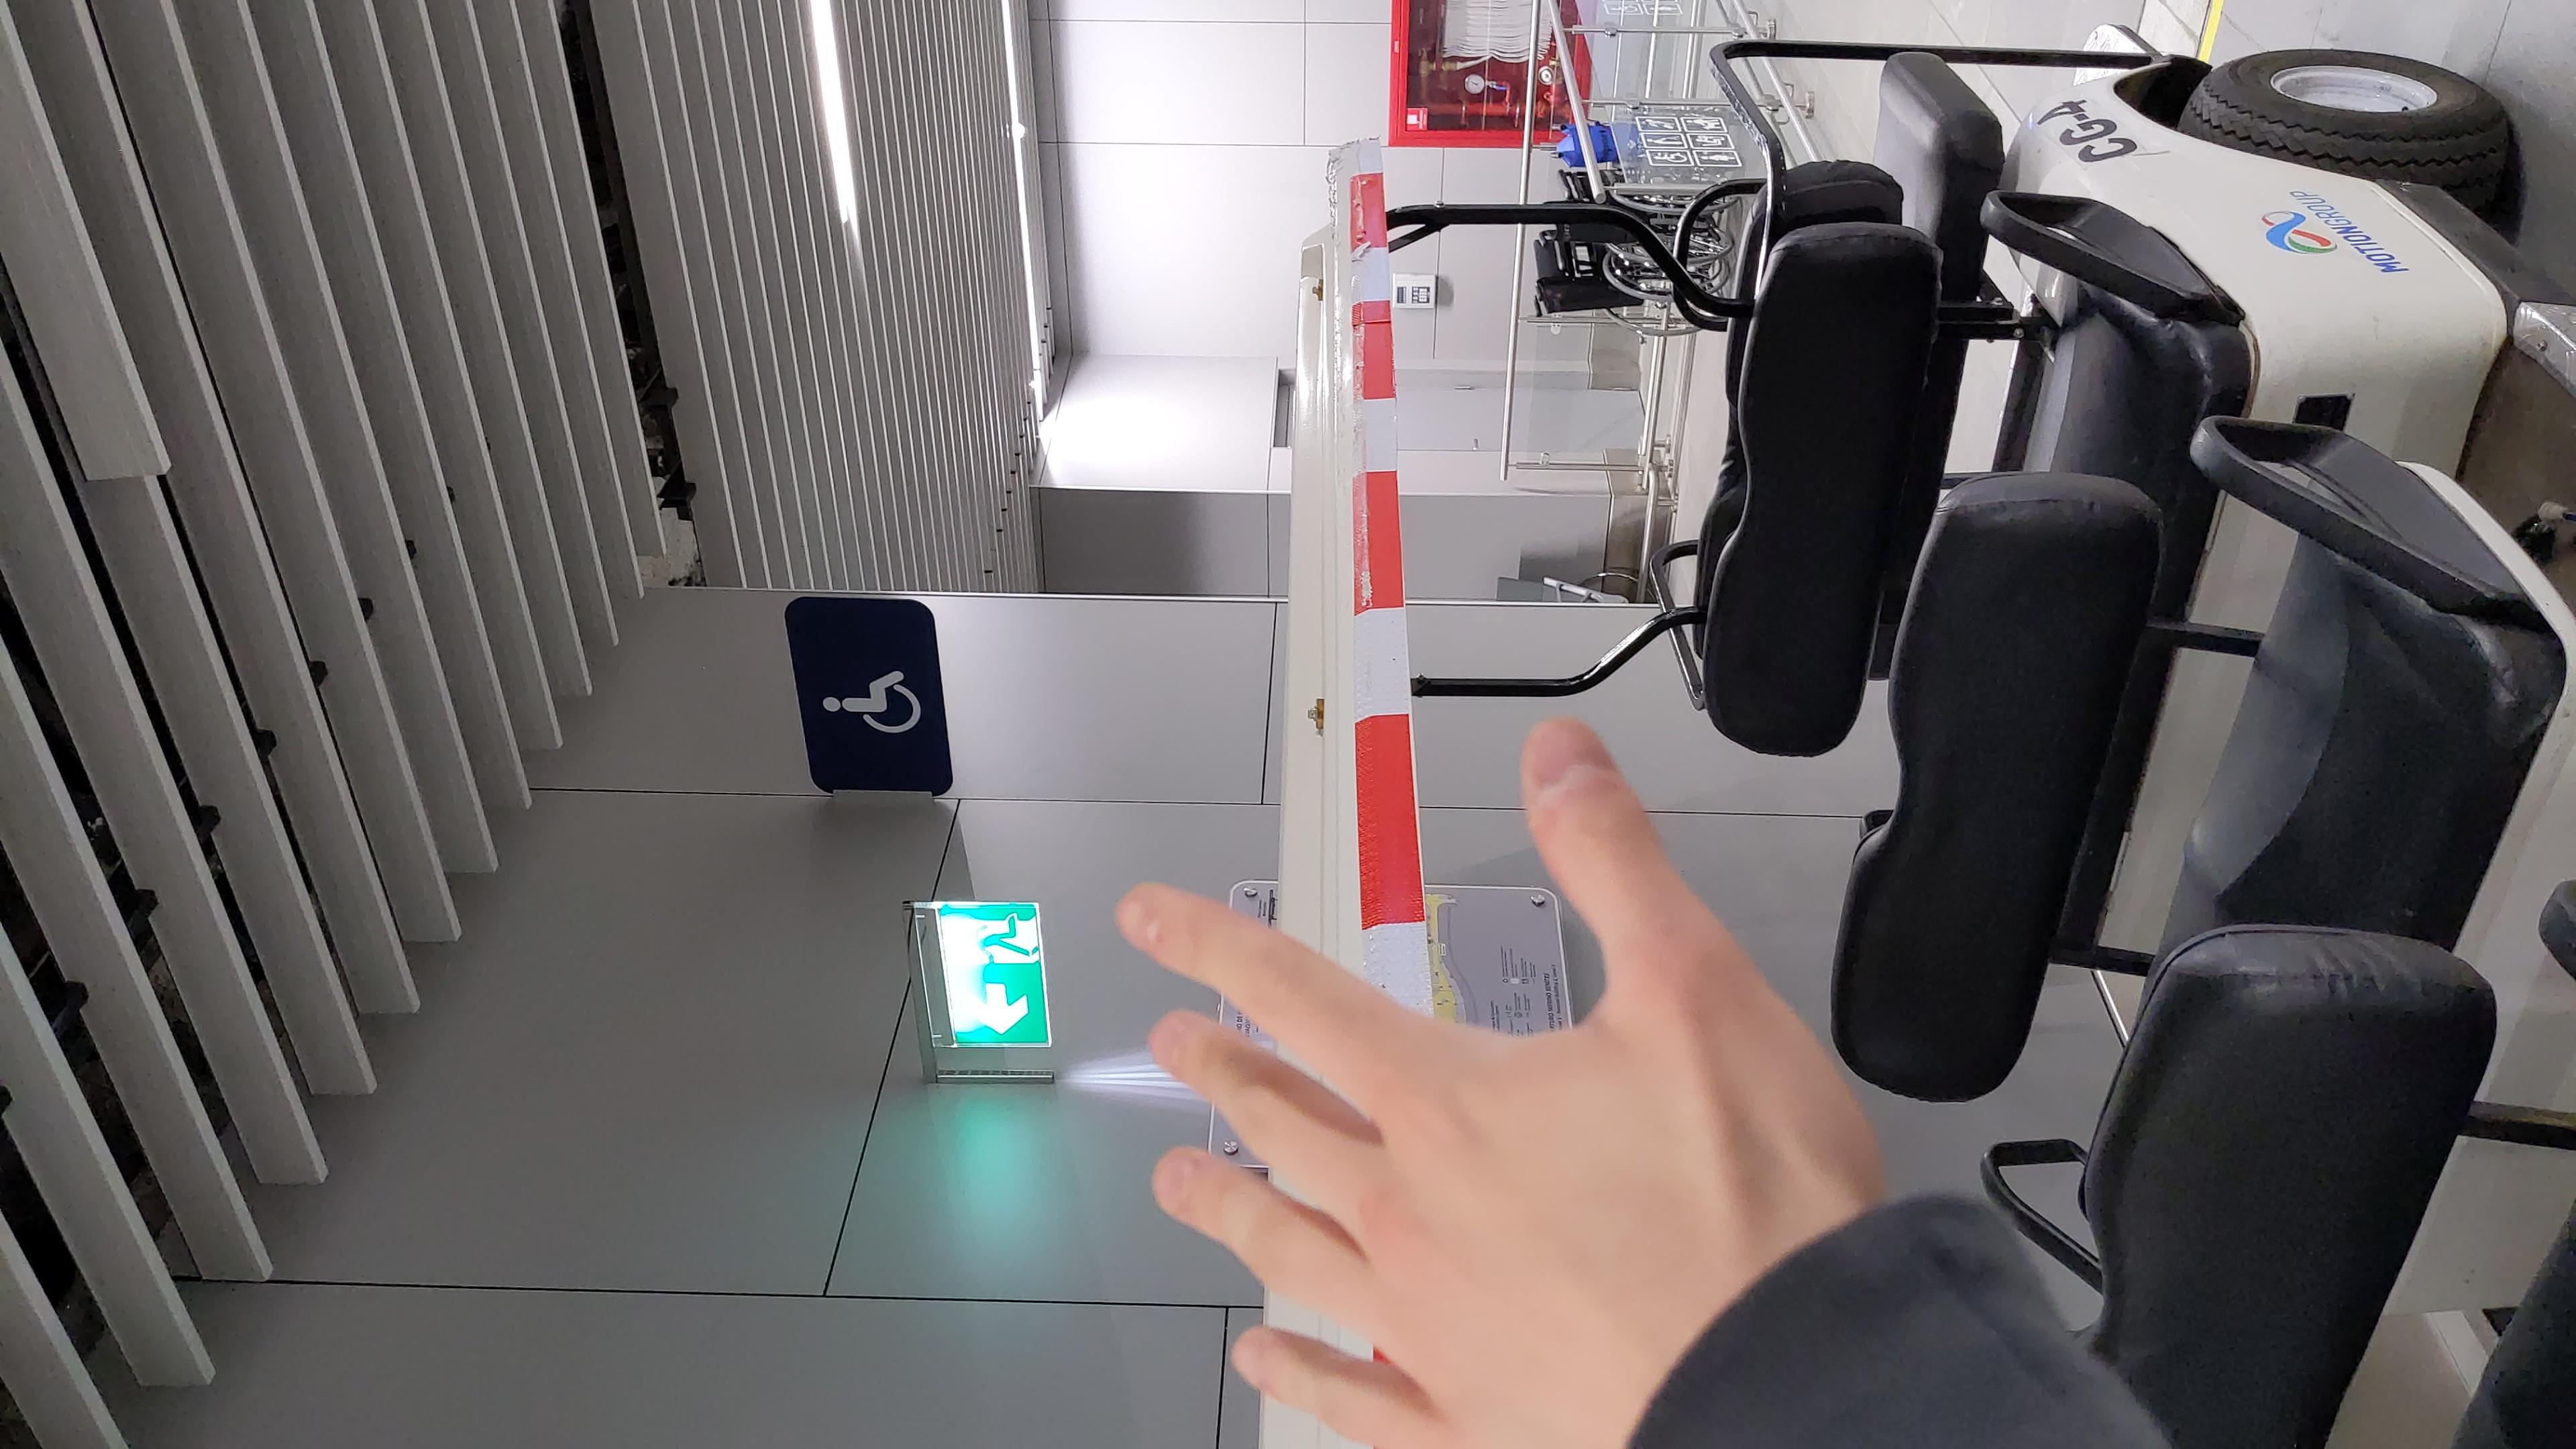emergency exit: (858, 533, 955, 586)
emergency left arrow: (732, 541, 837, 580)
handicapped symbol: (1272, 462, 1385, 520)
